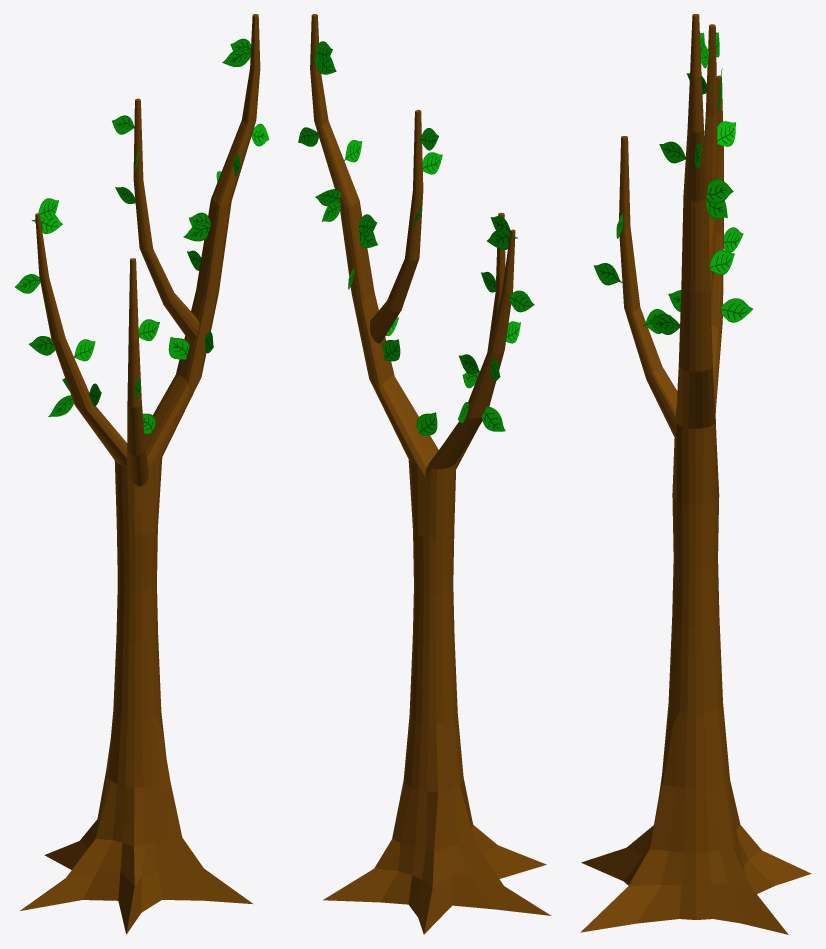
The model's file is arvorezinha.fbx.
3 renders of one model, left to right at view 1: azimuth 30°, elevation 25°; view 2: azimuth 150°, elevation 25°; view 3: azimuth 270°, elevation 25°, orthographic. The views are drawn at different scales.
Visible parts, largest first — view 1: Cylinder, Plane.001, Cylinder.001, Cylinder.002; view 2: Cylinder, Plane.001, Cylinder.001, Cylinder.002; view 3: Cylinder, Plane.001, Cylinder.002, Cylinder.001.
Boxes of the visible parts, box(x1,y1,x2,y2) form: Cylinder: box(20, 14, 260, 934); Plane.001: box(15, 38, 269, 433); Cylinder.001: box(133, 98, 199, 341); Cylinder.002: box(127, 258, 148, 486); Cylinder: box(310, 14, 551, 934); Plane.001: box(298, 41, 534, 435); Cylinder.001: box(370, 109, 423, 343); Cylinder.002: box(456, 212, 505, 469); Cylinder: box(580, 14, 811, 934); Plane.001: box(593, 32, 752, 334); Cylinder.002: box(619, 136, 677, 436); Cylinder.001: box(704, 24, 717, 298).
Size of the model in its own units: 57.11 by 182 by 40.4.
Materials: 2 (1 with a texture image).
